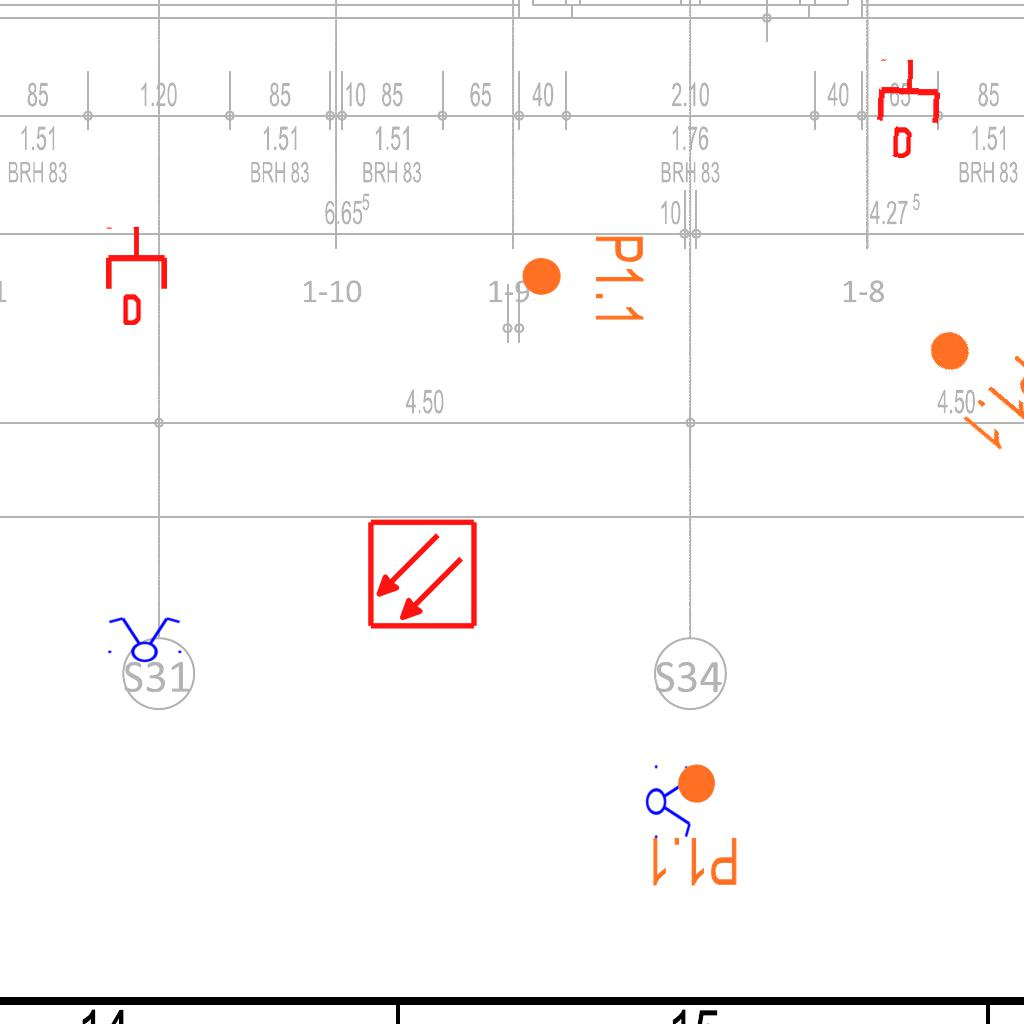Datenanschluss_einfach: (871, 56, 946, 160), (102, 225, 171, 325)
Downlight_LED_Einbauleuchten_Flur: (900, 303, 1024, 457), (519, 233, 647, 326), (647, 761, 740, 889)
RMO_Rauchmelder_optischer: (366, 518, 479, 631)
Serienschalter: (645, 759, 693, 843), (102, 615, 186, 663)
